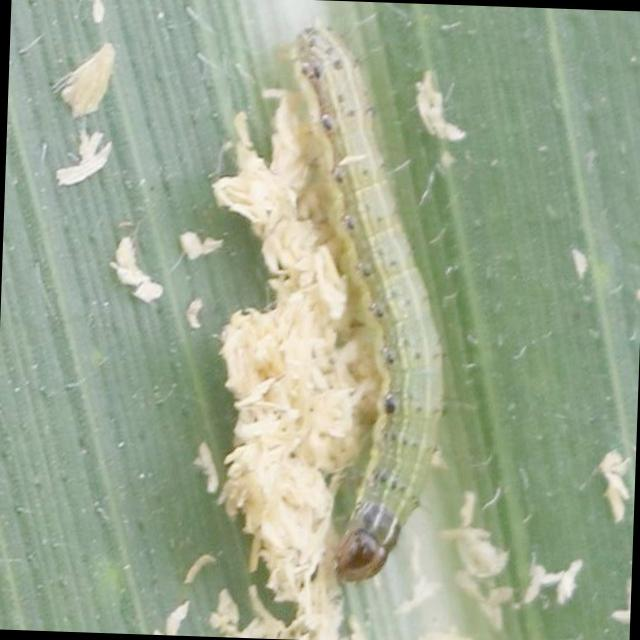pest: (284, 27, 456, 569)
